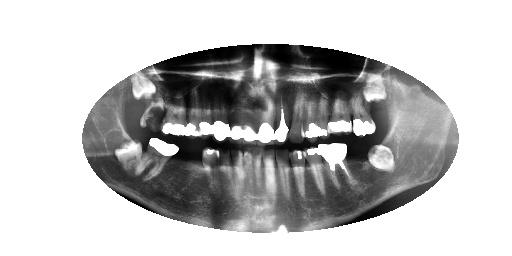Cavity: (139, 95, 164, 132)
Fillings: (135, 136, 181, 179), (303, 93, 330, 142), (303, 147, 329, 195), (349, 101, 380, 139), (327, 94, 353, 139), (163, 93, 187, 136), (202, 147, 221, 196), (212, 93, 231, 141), (257, 106, 276, 148), (289, 149, 306, 195), (187, 86, 201, 141), (198, 92, 212, 141), (229, 98, 243, 142), (244, 104, 258, 143)
Implant: (316, 143, 355, 192), (275, 94, 293, 145)
